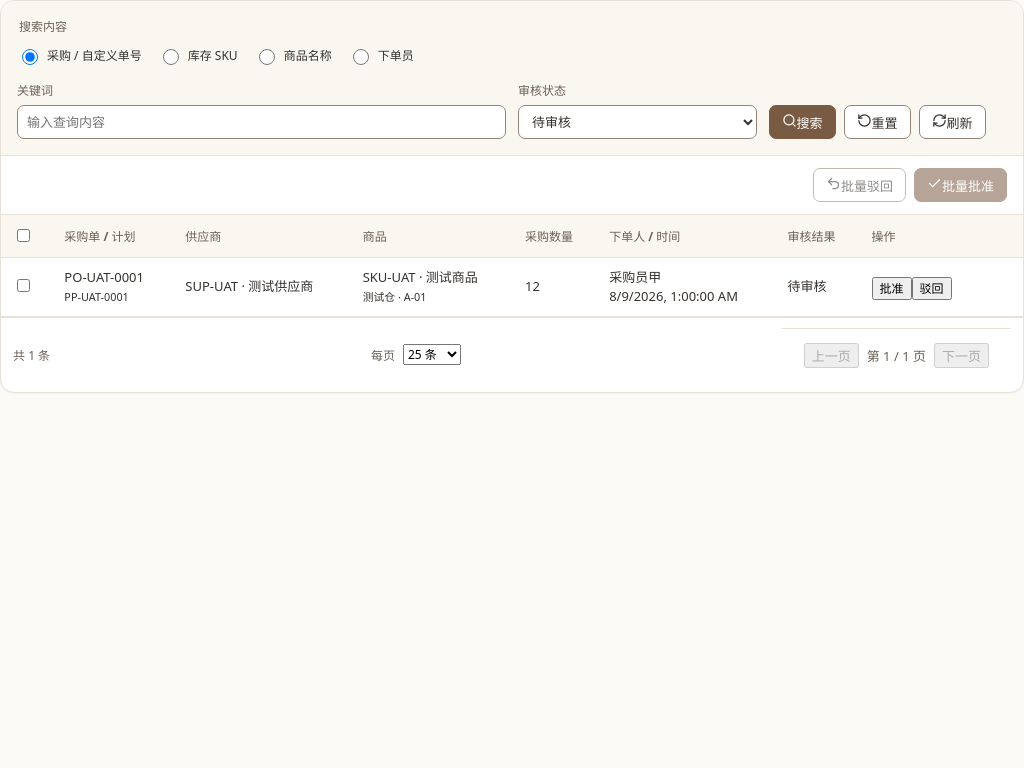
Scenario: procurement review page › requires a reason before rejecting an order
This screenshot has width=1024, height=768.
Click the button "驳回". click: (932, 288)
box: x1=912 y1=277 x2=952 y2=300
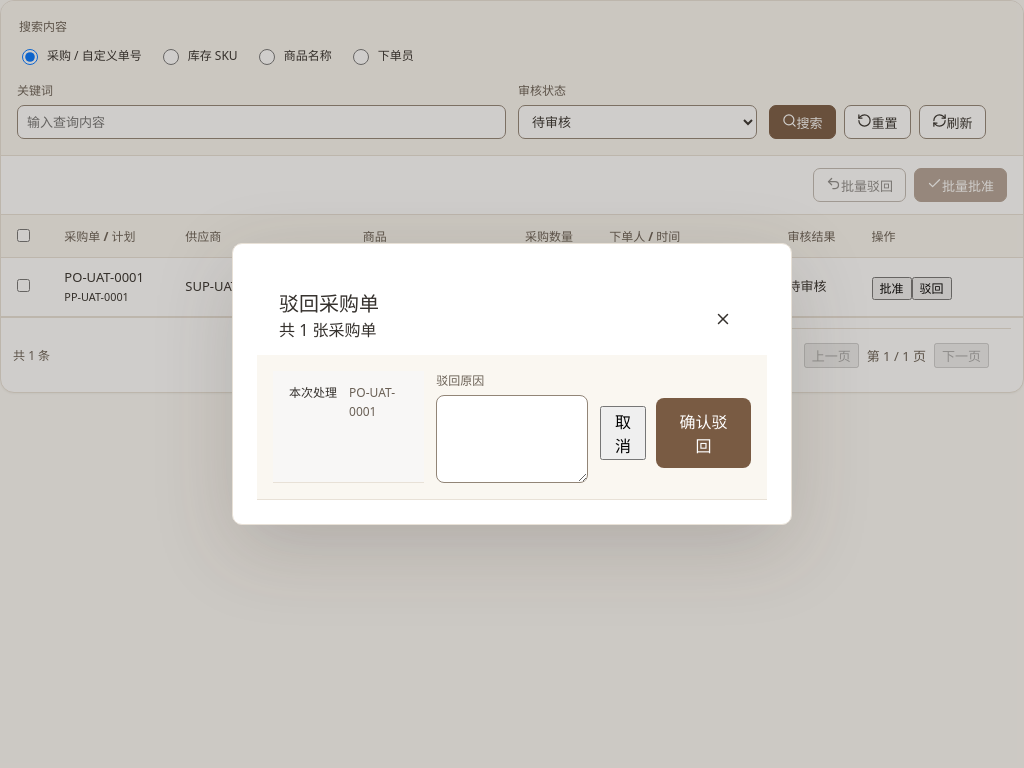
Result: the form is shown
Submit the form, box x1=257 y1=355 x2=767 y2=500
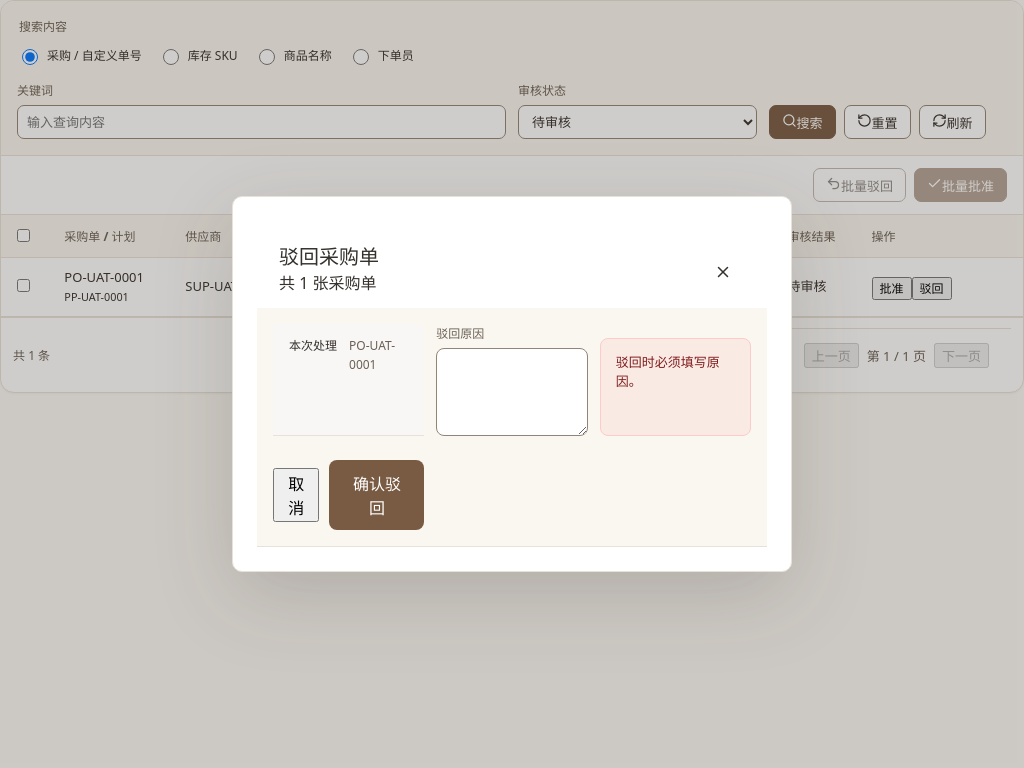
Result: the message shows "驳回时必须填写原因" at x1=616 y1=353 x2=720 y2=390
